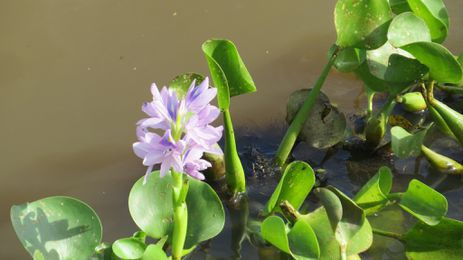water_hyacinth: (12, 1, 461, 259)
